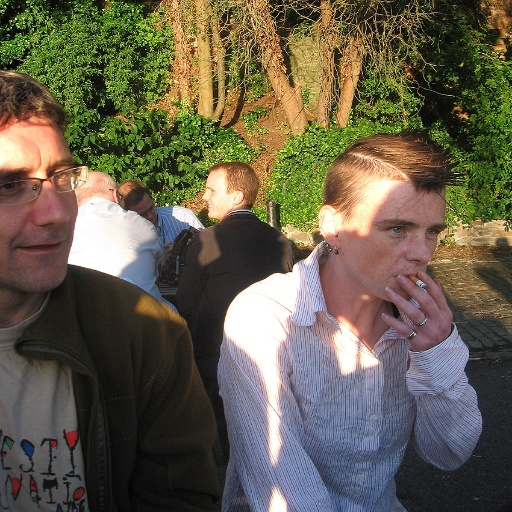hand: (382, 266, 464, 360), (159, 240, 173, 266)
